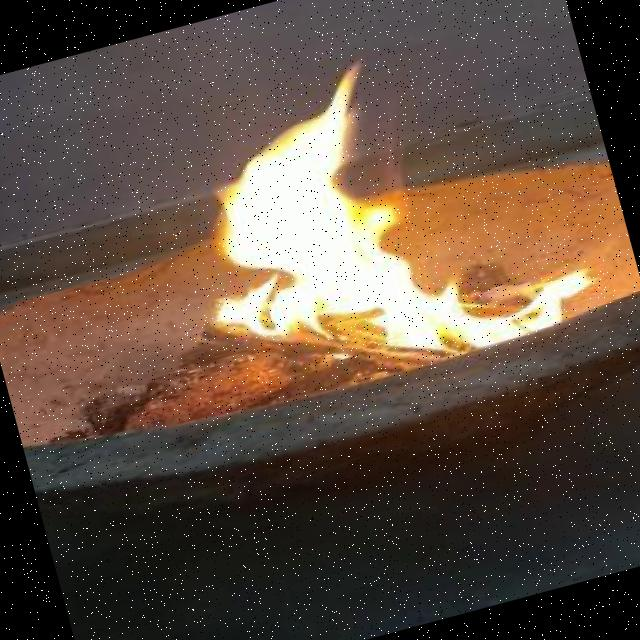fire: (76, 0, 569, 490)
